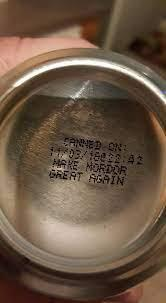metal: (0, 43, 166, 300)
